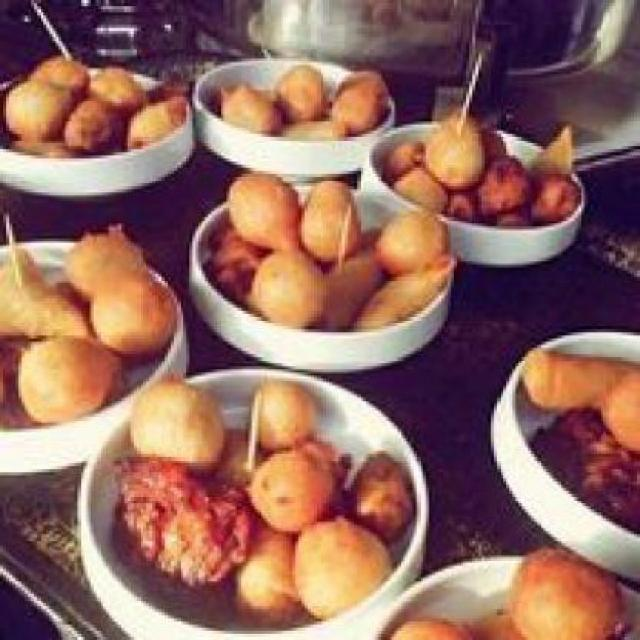samosa: (355, 258, 453, 327), (125, 95, 180, 140), (534, 118, 572, 174)
spring rolls: (214, 422, 292, 615), (515, 333, 637, 438), (326, 211, 376, 326), (270, 106, 352, 137), (391, 155, 442, 202)
